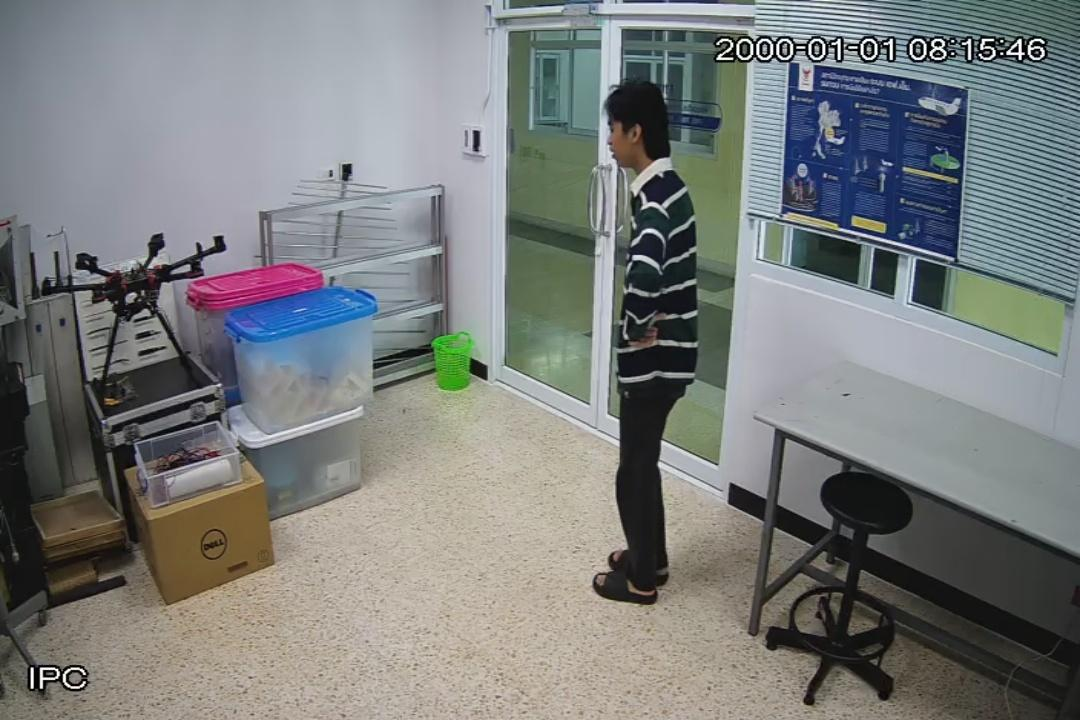normal: (588, 74, 701, 610)
